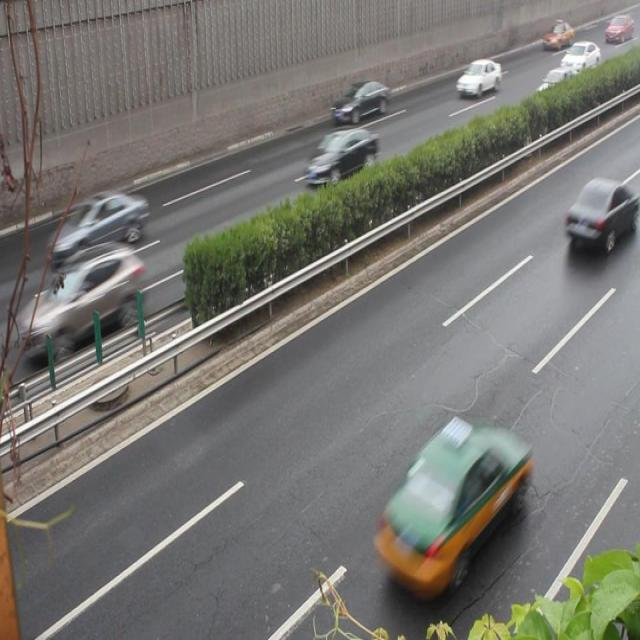car: (377, 418, 523, 589), (34, 249, 142, 354), (49, 190, 148, 262), (562, 180, 631, 258), (303, 130, 377, 190), (331, 80, 388, 126), (454, 59, 500, 100), (531, 69, 574, 110)
